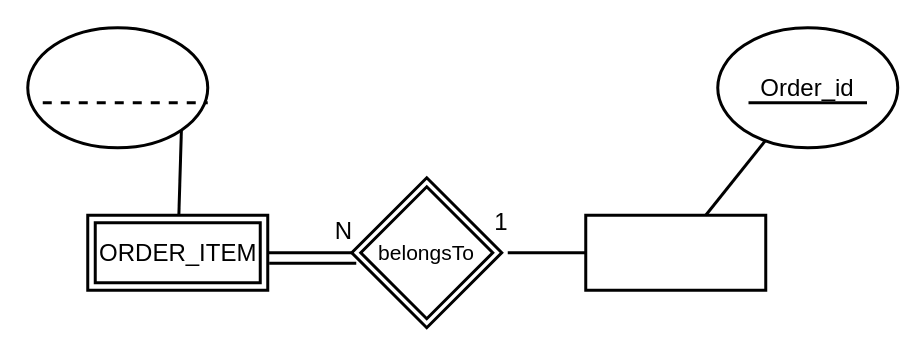
Some shapes in this 924 by 354 pixel diagram are drawn without their labels. The shapes that lost their labels are listed below. From the top down, each one's centre as x and y in pixels, then its label:
At (x=117, y=87): "Item_number".
At (x=675, y=252): "ORDER".
